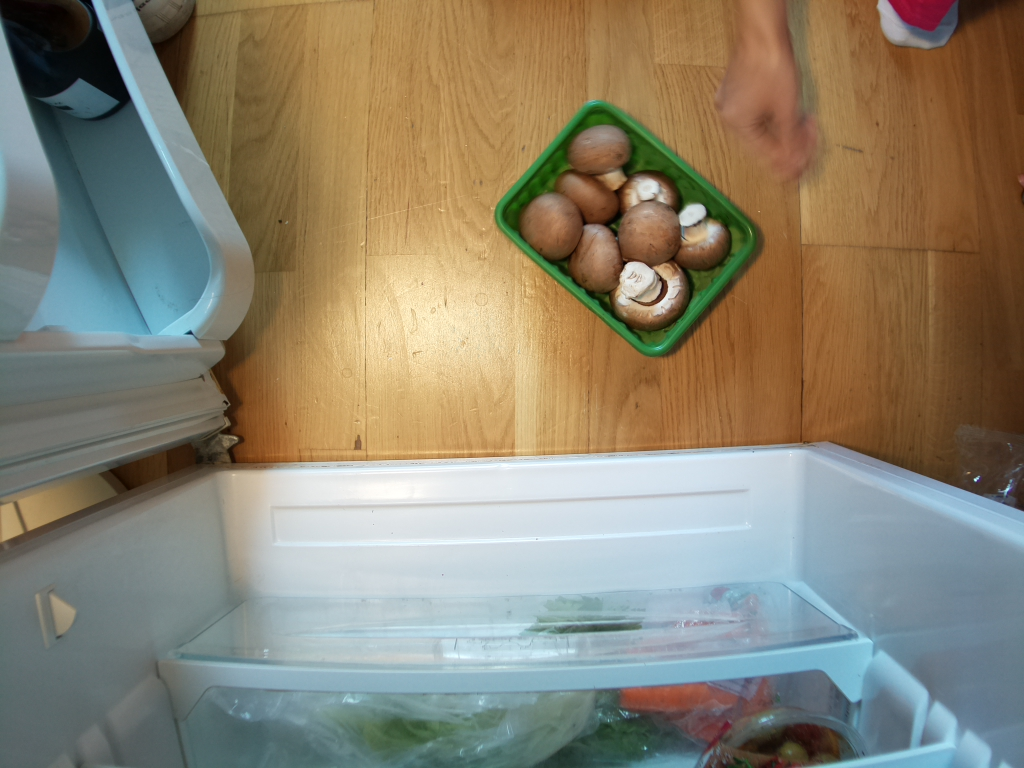mushrooms: (499, 104, 769, 358)
